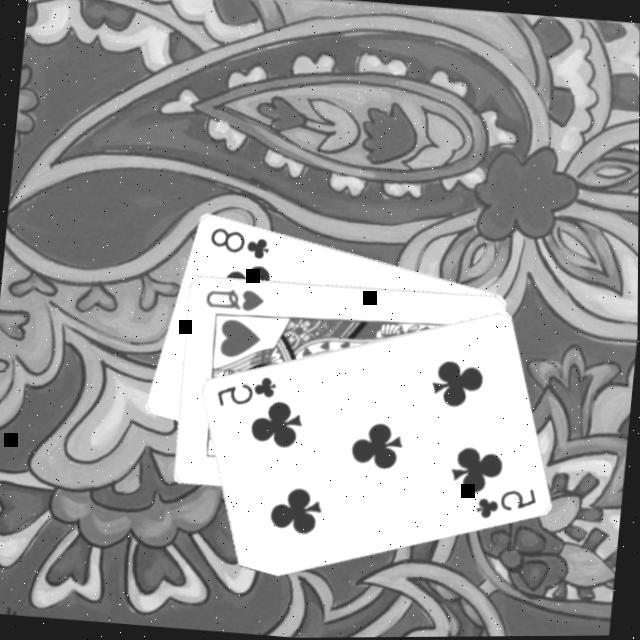5C: (213, 366, 281, 412), (472, 478, 540, 524)
8C: (205, 220, 274, 261)
QH: (201, 280, 267, 313)
